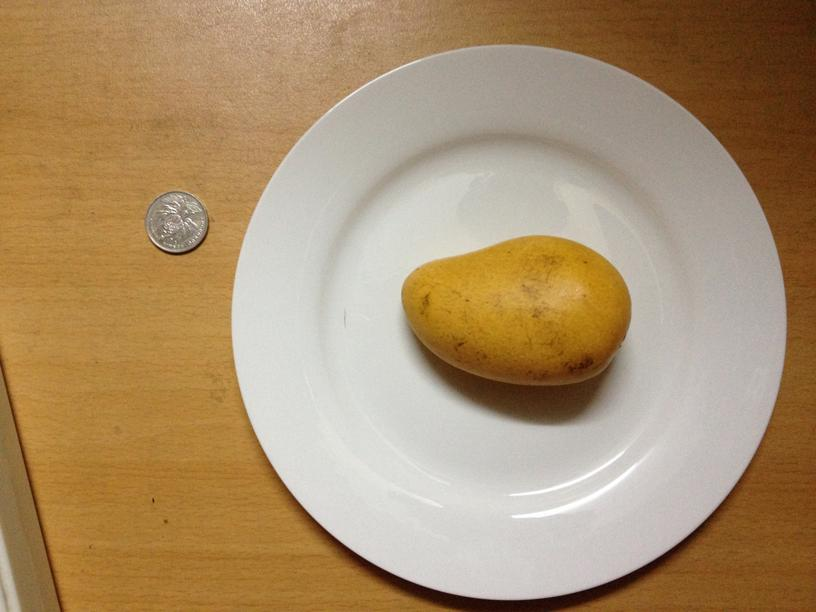coin: (142, 190, 210, 255)
mango: (395, 236, 632, 388)
